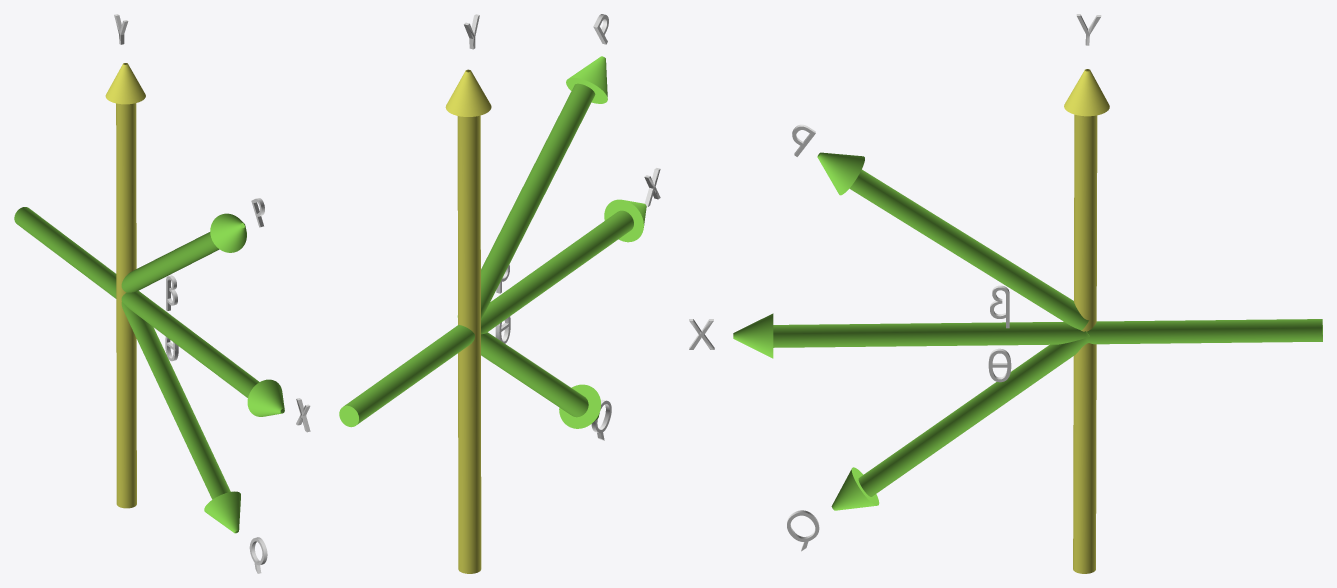
3 renders of one model, left to right at view 1: azimuth 30°, elevation 25°; view 2: azimuth 150°, elevation 25°; view 3: azimuth 270°, elevation 25°, orthographic. The views are drawn at different scales.
Parts seen in each view (by area): view 1: Cylinder.036, Cylinder.037, Cylinder.034, Cylinder.035, Cone.028, Cone.030, Cone.029, Cone.027; view 2: Cylinder.036, Cylinder.037, Cylinder.035, Cylinder.034, Cone.029, Cone.028, Cone.030, Cone.027; view 3: Cylinder.037, Cylinder.036, Cylinder.035, Cylinder.034, Cone.029, Cone.028, Cone.030, Cone.027.
Boxes of the visible parts, x1,y1,x2,y2 form: Cylinder.036: [116, 103, 136, 508]; Cylinder.037: [14, 207, 259, 397]; Cylinder.034: [121, 302, 230, 499]; Cylinder.035: [121, 226, 241, 292]; Cone.028: [210, 213, 246, 252]; Cone.030: [247, 379, 284, 416]; Cone.029: [105, 63, 145, 104]; Cone.027: [204, 491, 240, 533]; Cylinder.036: [457, 115, 481, 573]; Cylinder.037: [339, 210, 633, 427]; Cylinder.035: [457, 83, 595, 319]; Cylinder.034: [481, 332, 588, 417]; Cone.029: [445, 69, 491, 116]; Cone.028: [566, 56, 607, 103]; Cone.030: [604, 199, 646, 242]; Cone.027: [559, 384, 600, 428]; Cylinder.037: [773, 319, 1322, 347]; Cylinder.036: [1073, 114, 1097, 573]; Cylinder.035: [849, 169, 1088, 330]; Cylinder.034: [858, 331, 1089, 496]; Cone.029: [1064, 69, 1109, 116]; Cone.028: [817, 152, 864, 195]; Cone.030: [733, 313, 773, 358]; Cone.027: [831, 467, 879, 510].
Size of the model in its own units: 0.0211 by 0.2657 by 0.2765.
